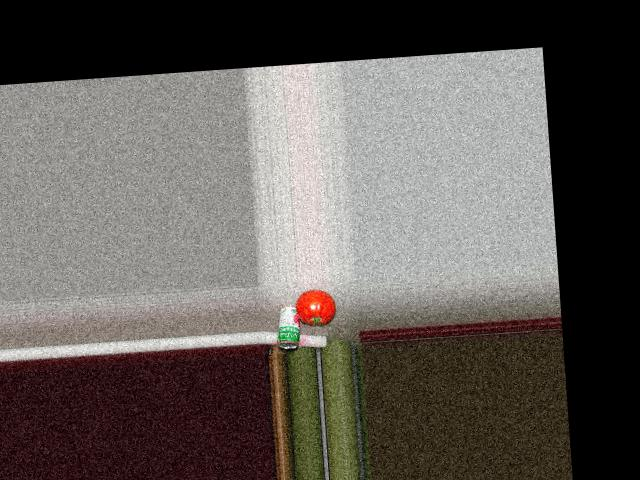tomato: (295, 288, 336, 325)
